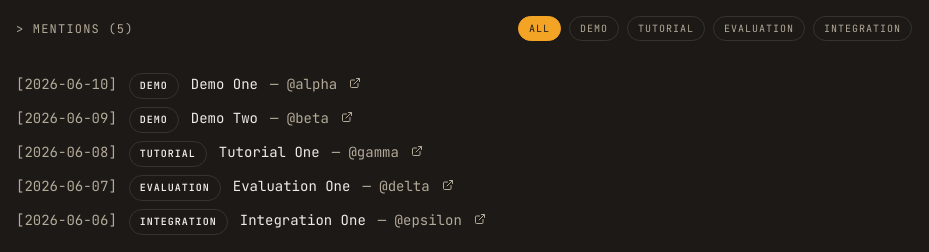
Test: MuseumMentions › restores the full list when All is clicked after a filter is active
Click the button "Tutorial".
click(666, 28)  # box top-left (627, 16), bottom-right (705, 41)
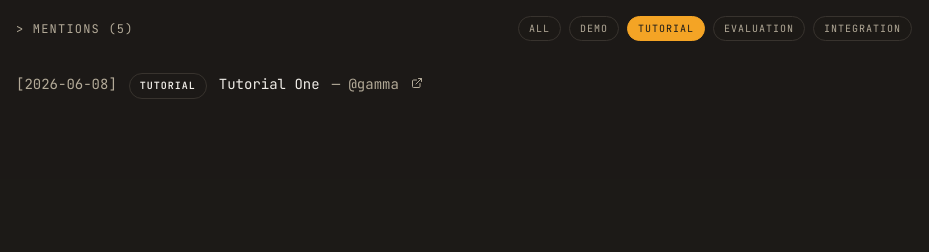
Expected: the number of list items is 1, top-left (16, 73), bottom-right (423, 99)
Click the button "All".
click(540, 28)  # box top-left (518, 16), bottom-right (561, 41)
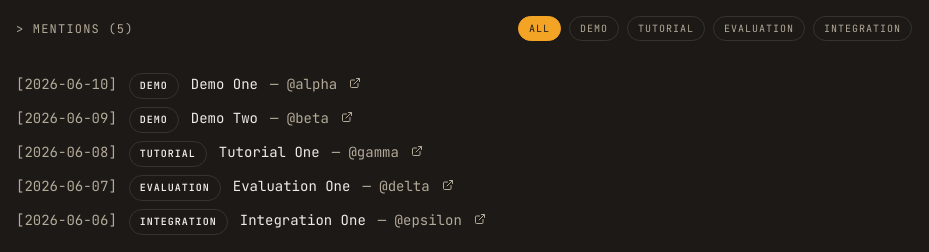
Expected: the number of list items is 5, top-left (16, 73), bottom-right (361, 99); top-left (16, 107), bottom-right (353, 133); top-left (16, 141), bottom-right (423, 167); top-left (16, 175), bottom-right (454, 201); top-left (16, 209), bottom-right (486, 235)
